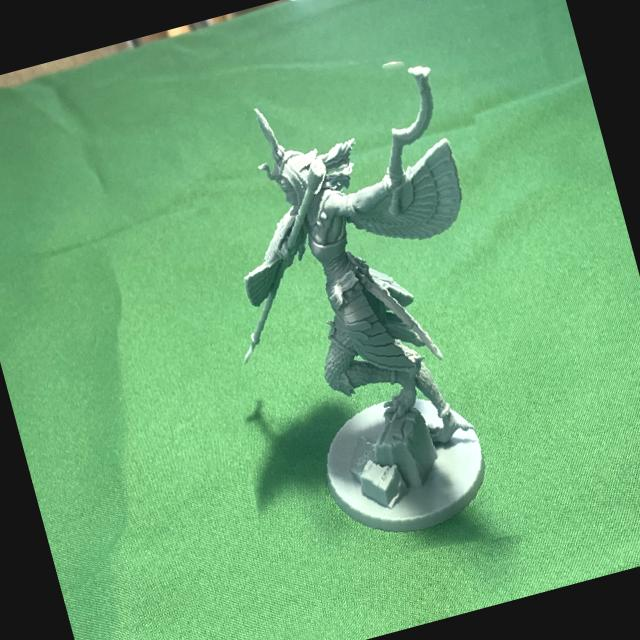isis: (156, 33, 576, 592)
